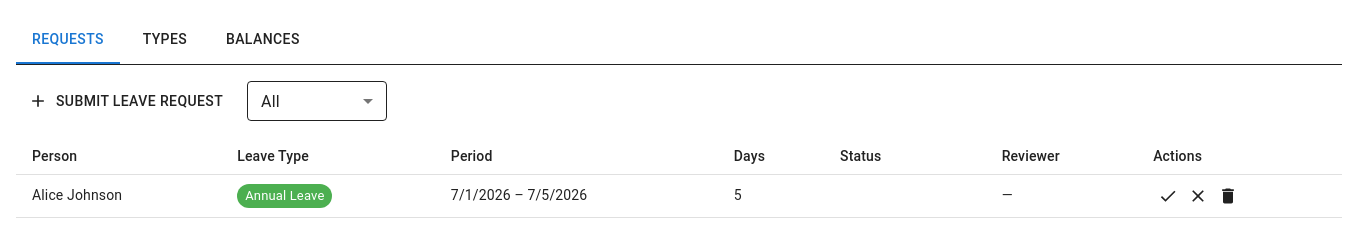
Test: LeaveManager › shows balance data in Balances tab
Click the tab "Balances" at point(263, 40), box 210,16 -> 316,64
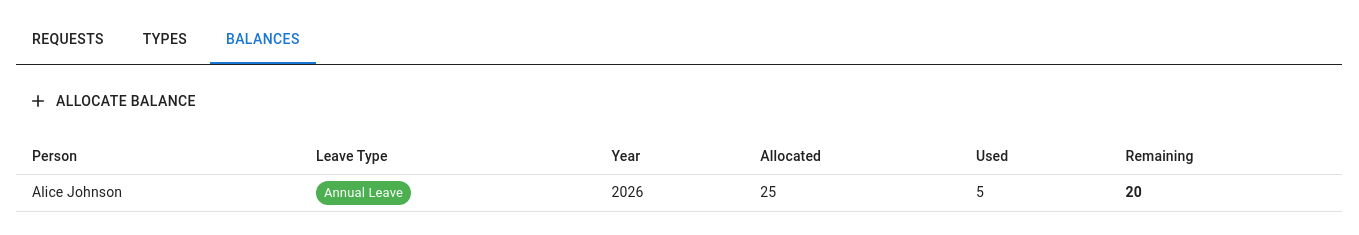
expect the text "Alice Johnson" is shown: met, box 16,174 -> 300,211
expect the text "25" is shown: met, box 744,174 -> 960,211
